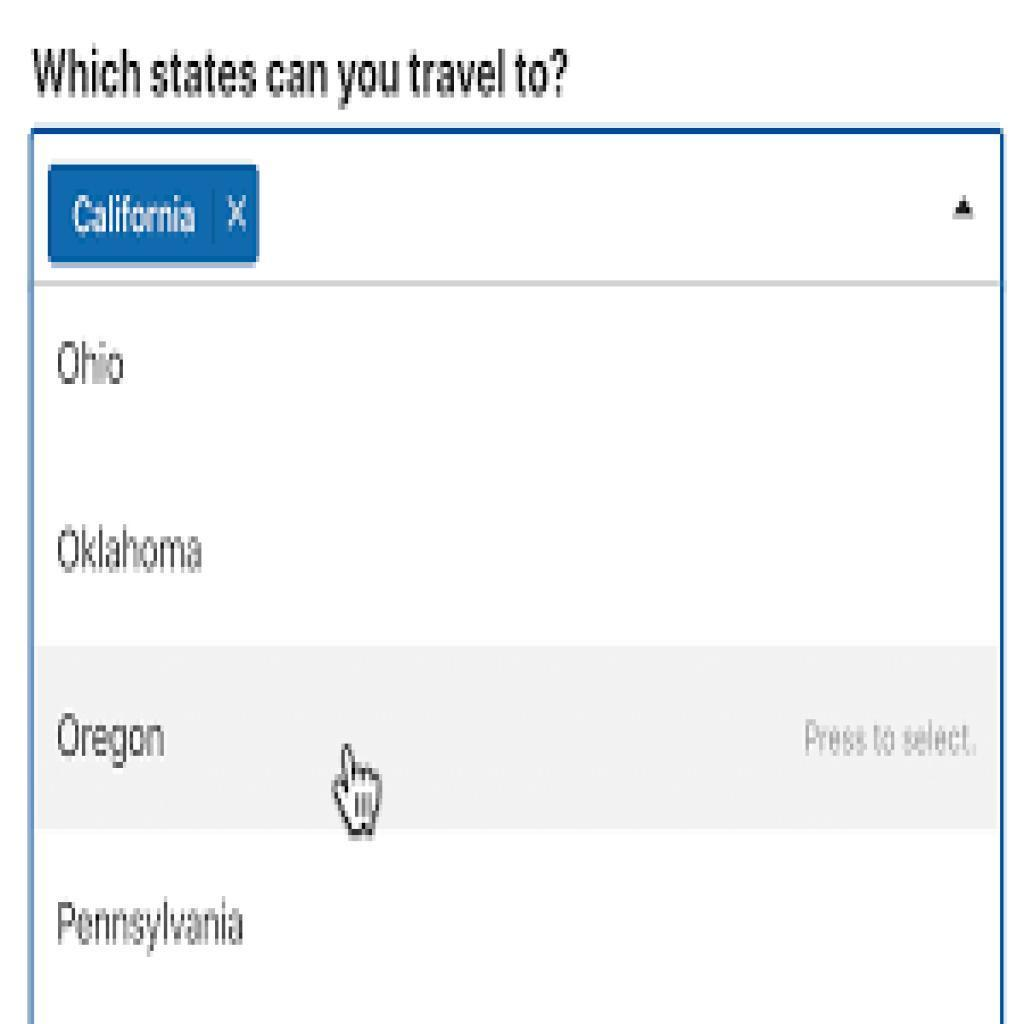dropdown: (29, 128, 1005, 286)
